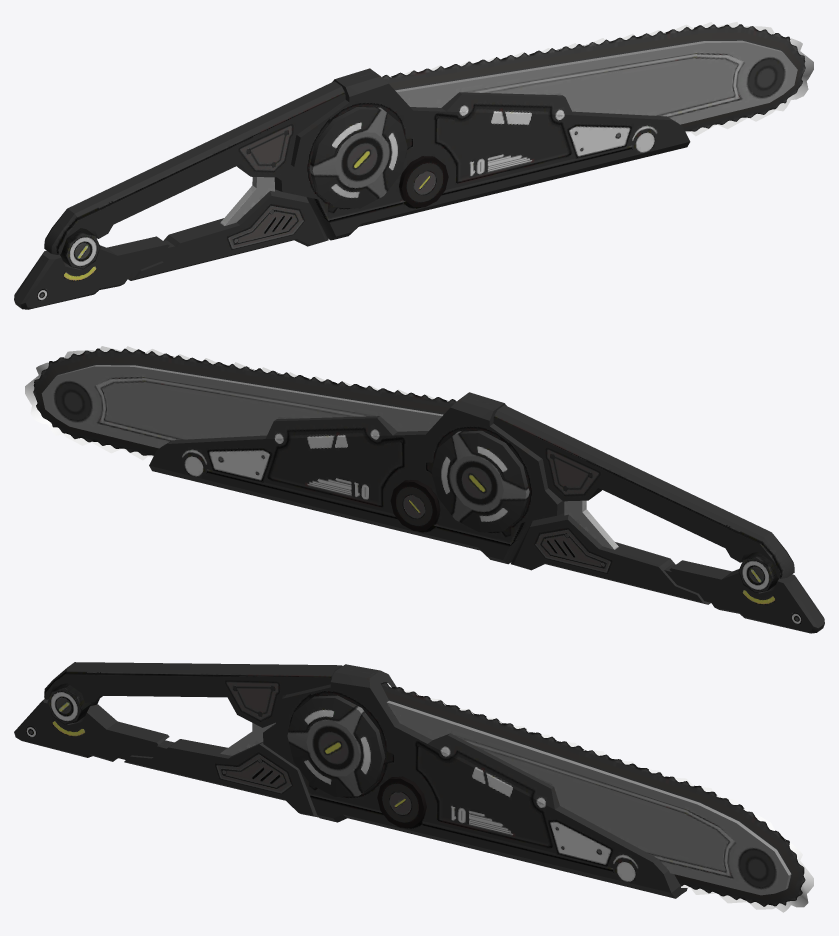
File: E1SawMd030011.fbx
3 views of the same model, one above another, from view 1: azimuth 30°, elevation 25°; view 2: azimuth 150°, elevation 25°; view 3: azimuth 330°, elevation 25° (orthographic).
Visible parts, largest first — view 1: E1SawMd0300111, E1SawMd0300112, E1SawMd030011LightPlane1; view 2: E1SawMd0300111, E1SawMd0300112, E1SawMd030011LightPlane1; view 3: E1SawMd0300111, E1SawMd0300112, E1SawMd030011LightPlane1.
Part boxes in pixels (bbox=[...]): E1SawMd0300111: bbox=[14, 40, 797, 309]; E1SawMd0300112: bbox=[382, 24, 805, 131]; E1SawMd030011LightPlane1: bbox=[387, 22, 813, 136]; E1SawMd0300111: bbox=[41, 365, 824, 633]; E1SawMd0300112: bbox=[33, 348, 456, 455]; E1SawMd030011LightPlane1: bbox=[25, 346, 451, 460]; E1SawMd0300111: bbox=[14, 662, 791, 898]; E1SawMd0300112: bbox=[380, 682, 805, 906]; E1SawMd030011LightPlane1: bbox=[387, 683, 813, 912].
Bounding box in the file's own units: 1.04 × 0.1957 × 0.0638.
3 materials, 3 textured.
